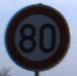Speed Limit -80-: (0, 0, 76, 75)
